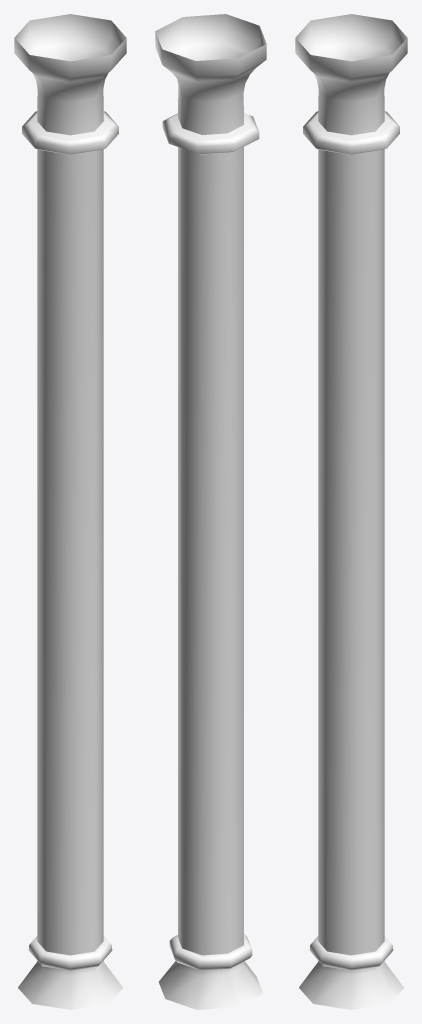
File: F_Pillar_01.fbx
3 views of the same model, side by side, from view 1: azimuth 90°, elevation 25°; view 2: azimuth 210°, elevation 25°; view 3: azimuth 270°, elevation 25° (orthographic).
Parts seen in each view (by area): view 1: F_Pillar_01; view 2: F_Pillar_01; view 3: F_Pillar_01.
Boxes of the visible parts, x1,y1,x2,y2 form: F_Pillar_01: [14, 14, 126, 1009]; F_Pillar_01: [155, 14, 266, 1009]; F_Pillar_01: [295, 14, 407, 1009].
Bounding box in the file's own units: 58.78 × 549 × 58.78.
